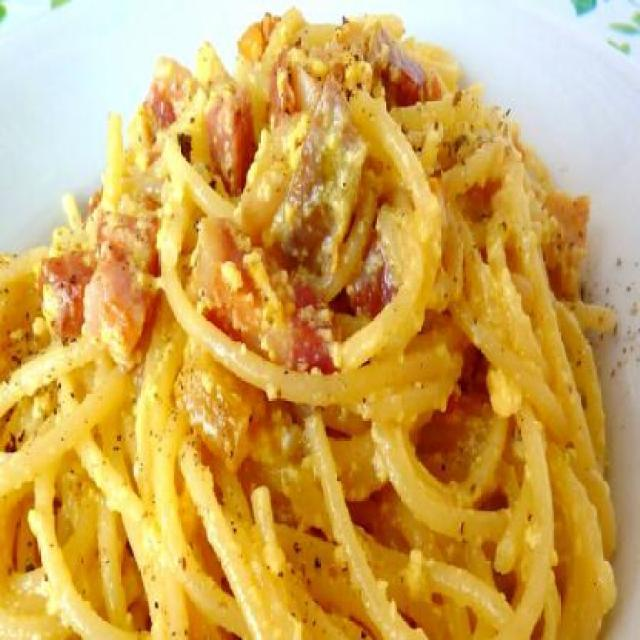Pasta with carbonara sauce: (8, 14, 624, 623)
